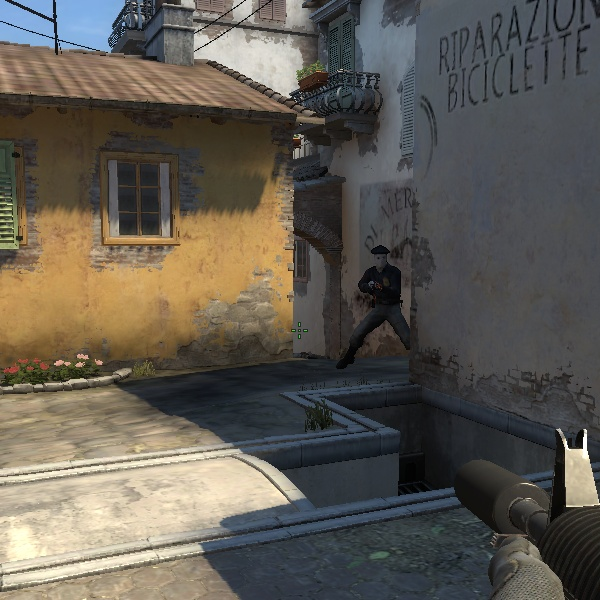ct_body: (342, 240, 417, 364)
